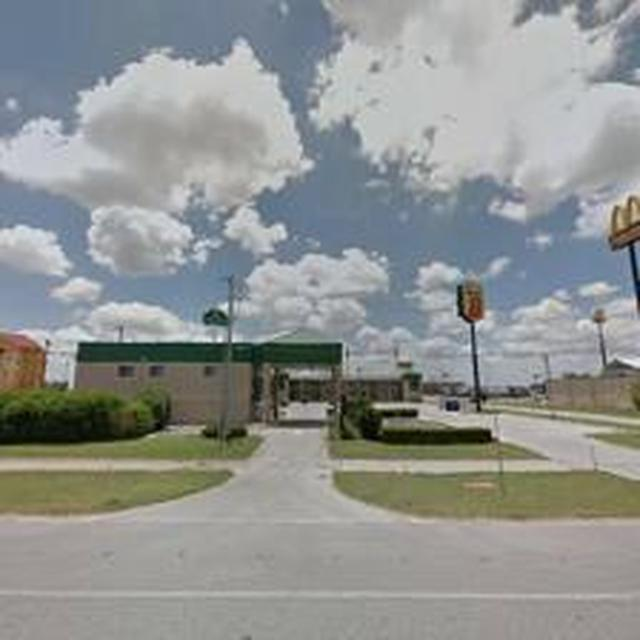building: (74, 337, 347, 424), (544, 352, 640, 414), (0, 328, 49, 392)
